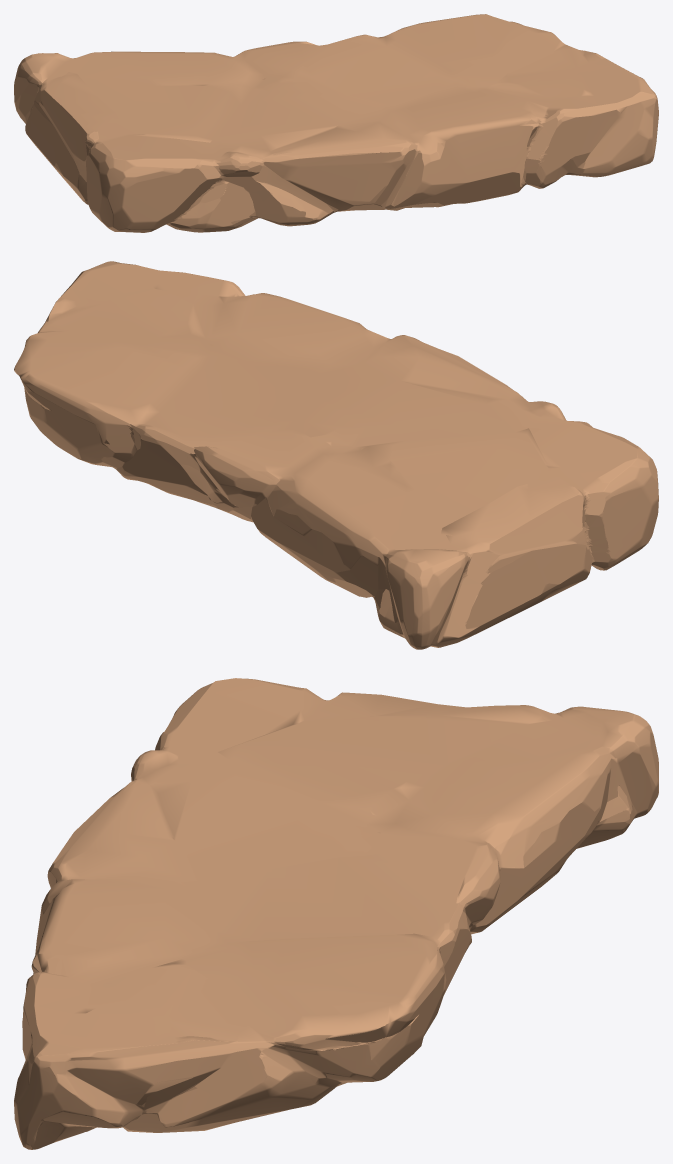
3 views of the same model, one above another, from view 1: azimuth 30°, elevation 25°; view 2: azimuth 150°, elevation 25°; view 3: azimuth 270°, elevation 25° (orthographic). The views are drawn at different scales.
Parts seen in each view (by area): view 1: Mesh_64_LOD0; view 2: Mesh_64_LOD0; view 3: Mesh_64_LOD0.
Part boxes in pixels (x1,y1,x2,y2): Mesh_64_LOD0: (14,14,658,232); Mesh_64_LOD0: (14,261,658,649); Mesh_64_LOD0: (14,678,658,1149).
Size of what is drawn, in the model's own units: 4050 by 654 by 2888.
